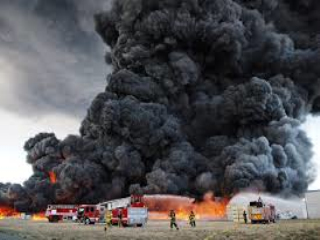smoke: (53, 7, 309, 189)
